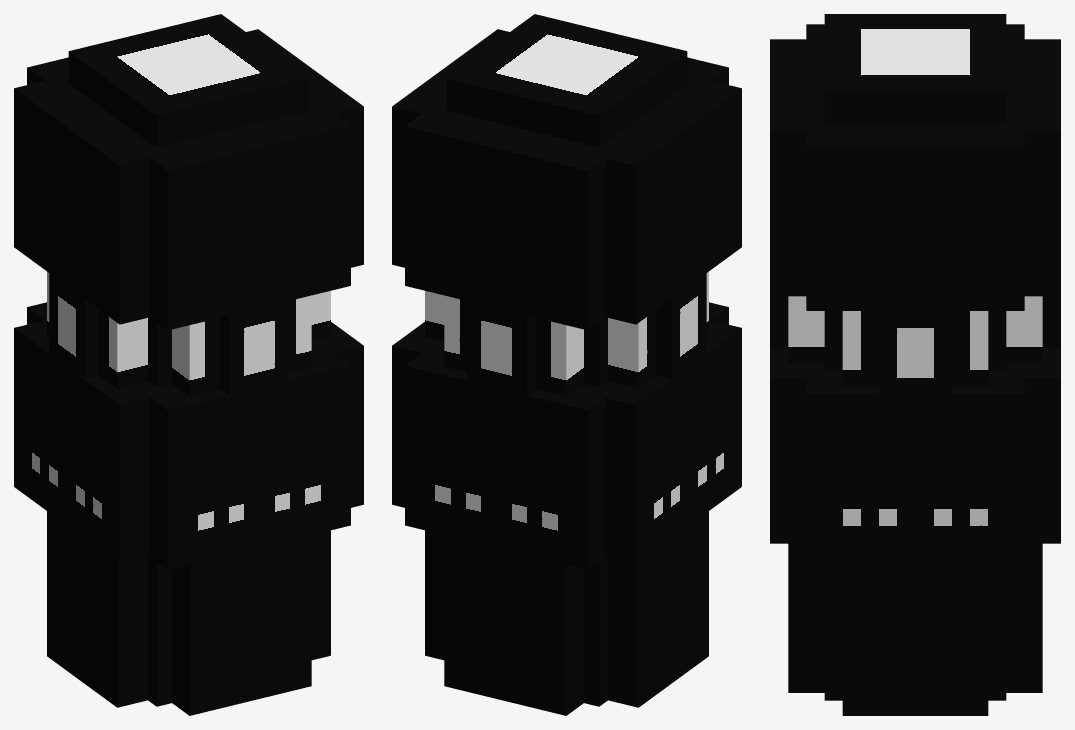
File: pillar.fbx
The picture shows the model from 3 angles, left to right: view 1: azimuth 30°, elevation 25°; view 2: azimuth 150°, elevation 25°; view 3: azimuth 270°, elevation 25°; orthographic projection. The views are drawn at different scales.
Visible parts, largest first — view 1: cube; view 2: cube; view 3: cube.
Boxes of the visible parts, box(x1,y1,x2,y2) form: cube: box(14, 14, 363, 715); cube: box(392, 14, 741, 715); cube: box(770, 14, 1060, 715).
Bounding box in the file's own units: 100 × 231 × 100.
1 material, 1 textured.
